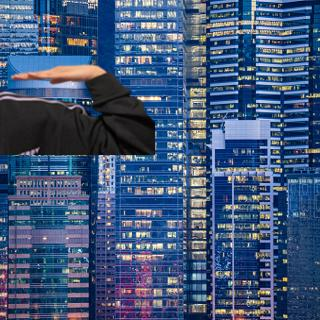Wait: (8, 59, 104, 86)
